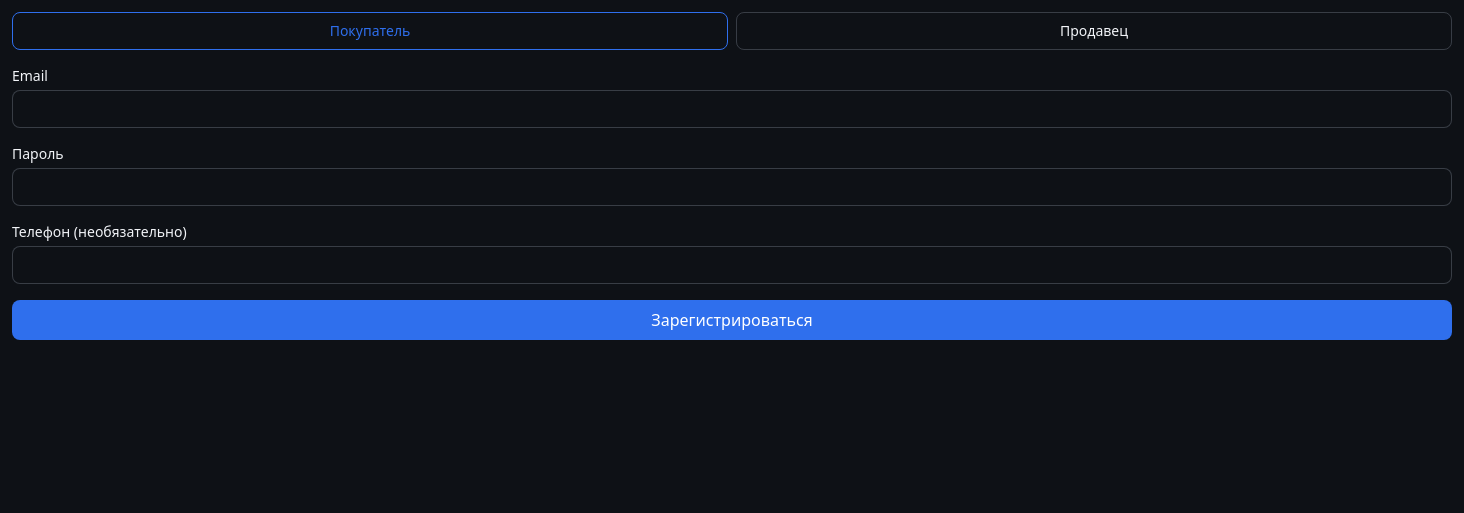
RegisterForm › asks a seller for the legal name, because it is required to register
The image size is (1464, 513).
Click the button "Продавец" at [1094, 31], box x1=736 y1=12 x2=1452 y2=50
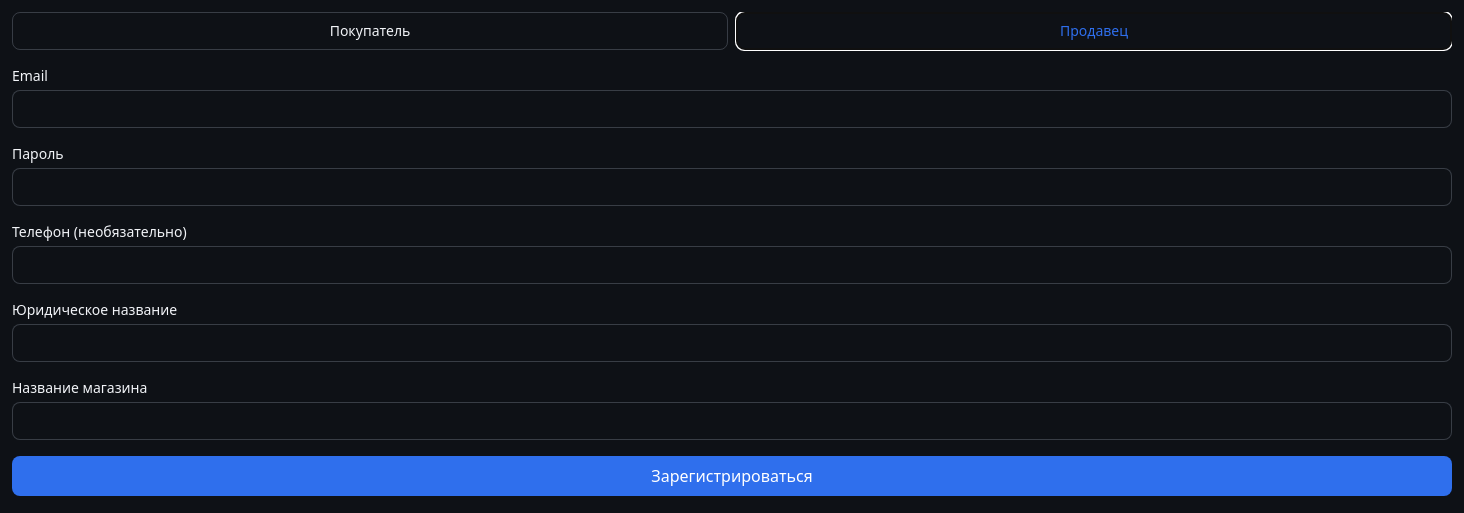
Now the field labelled "Юридическое название" is shown, box x1=12 y1=324 x2=1452 y2=362
Now the field labelled "Название магазина" is shown, box x1=12 y1=402 x2=1452 y2=440
